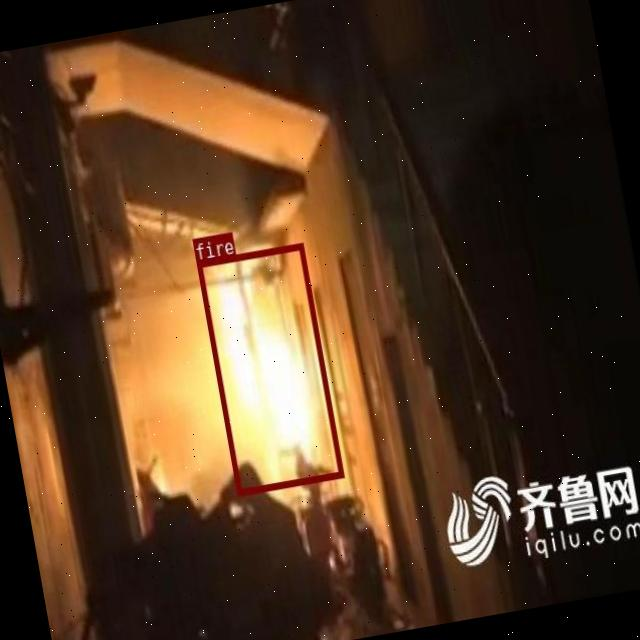fire: (195, 241, 342, 494)
